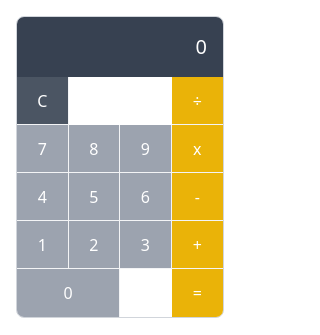
Test: check that 3 x 4 === 12
The width and height of the screenshot is (320, 335).
Click the button named "three" at coordinates (146, 245), box top-left (120, 221), bottom-right (172, 269)
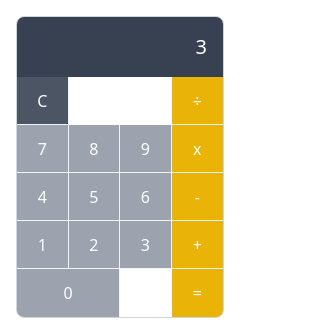
Click the button named "times" at coordinates (197, 149), box top-left (172, 125), bottom-right (223, 173)
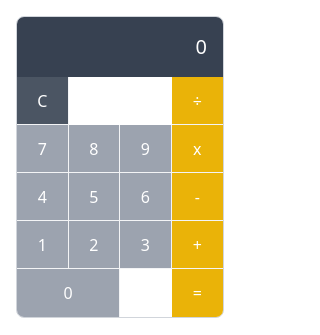
Click the button named "four" at coordinates (43, 197), box top-left (17, 173), bottom-right (68, 221)
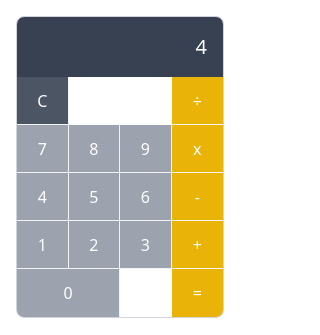
Click the button named "equals" at coordinates (197, 293), box top-left (172, 269), bottom-right (223, 317)
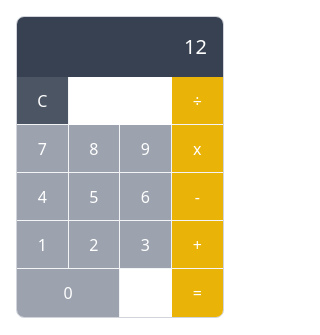
Now the text titled "answer" reads "12", box top-left (184, 33), bottom-right (207, 60)
